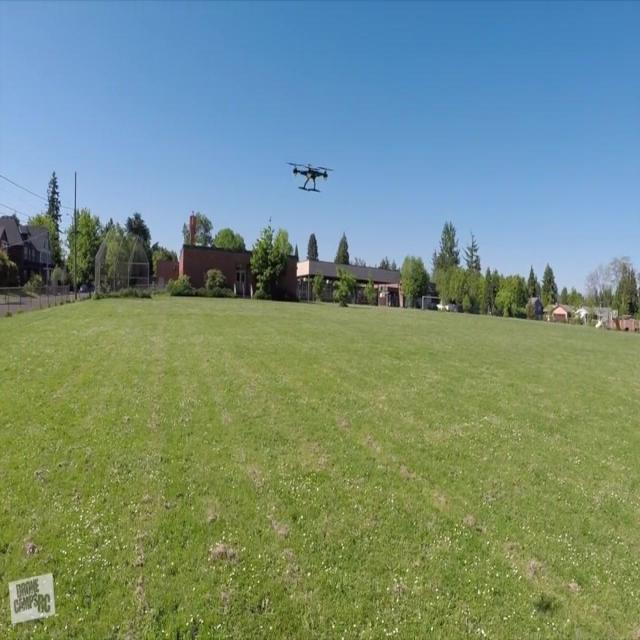UAV: (286, 163, 334, 193)
